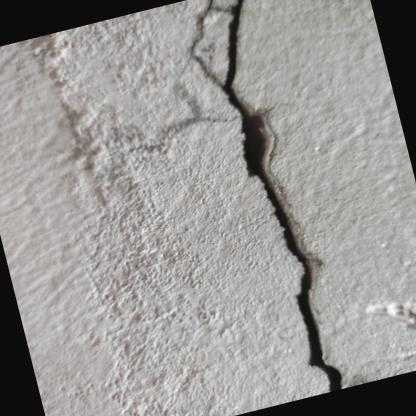crack: (188, 0, 342, 392)
